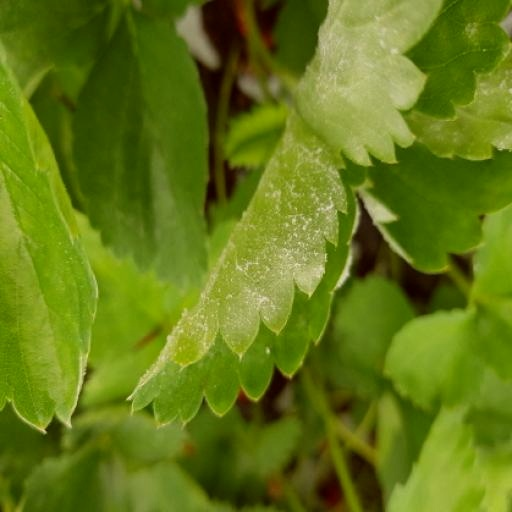Powdery Mildew Leaf: (123, 82, 368, 411), (293, 344, 511, 511), (355, 237, 511, 467)
